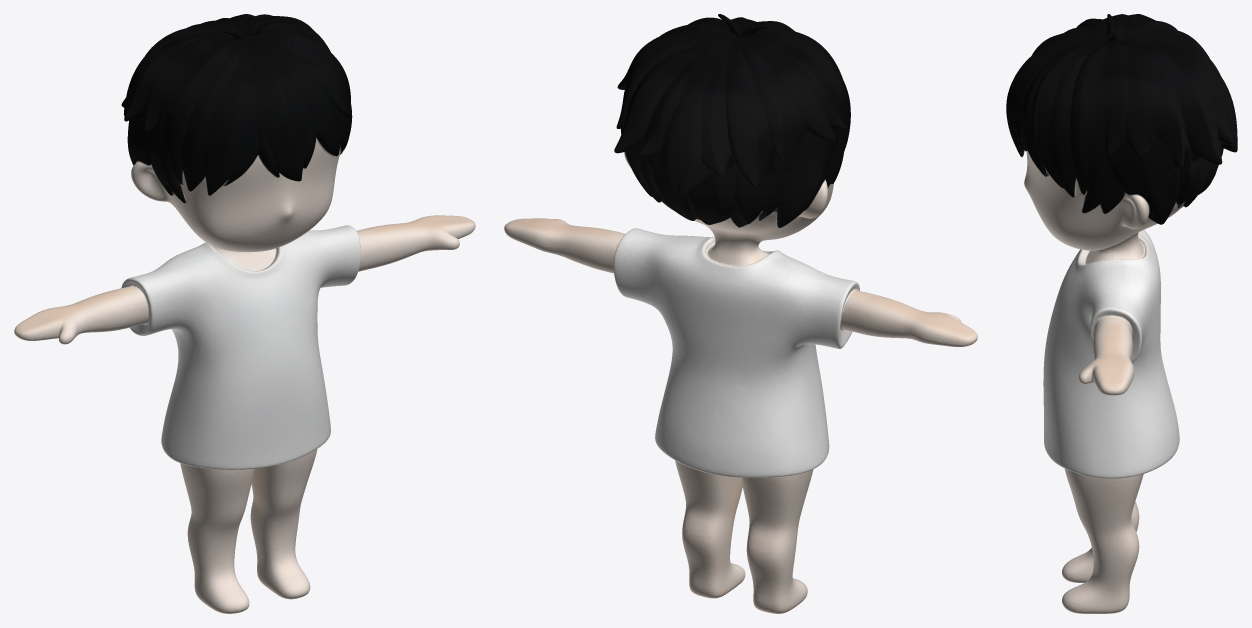
File: baked_nhair_short.glb
The picture shows the model from 3 angles, left to right: view 1: azimuth 30°, elevation 25°; view 2: azimuth 150°, elevation 25°; view 3: azimuth 270°, elevation 25°; orthographic projection. The views are drawn at different scales.
Size of the model in its own units: 1.6 by 1.9 by 0.7005.
Materials: 1 (1 with a texture image).
